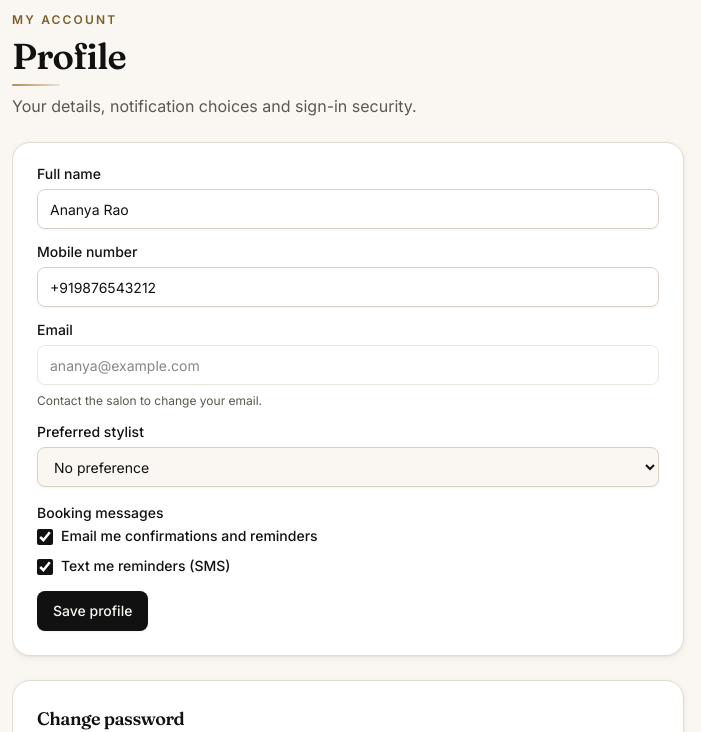
Test: profile (FR-005, API-010, API-008, API-005) › a phone that belongs to someone else is flagged on the field
The width and height of the screenshot is (701, 732).
What coordinates should you click on to do the following:
click the button "Save profile"
I would click on:
 (93, 611)
Its box is [37,591,148,631].
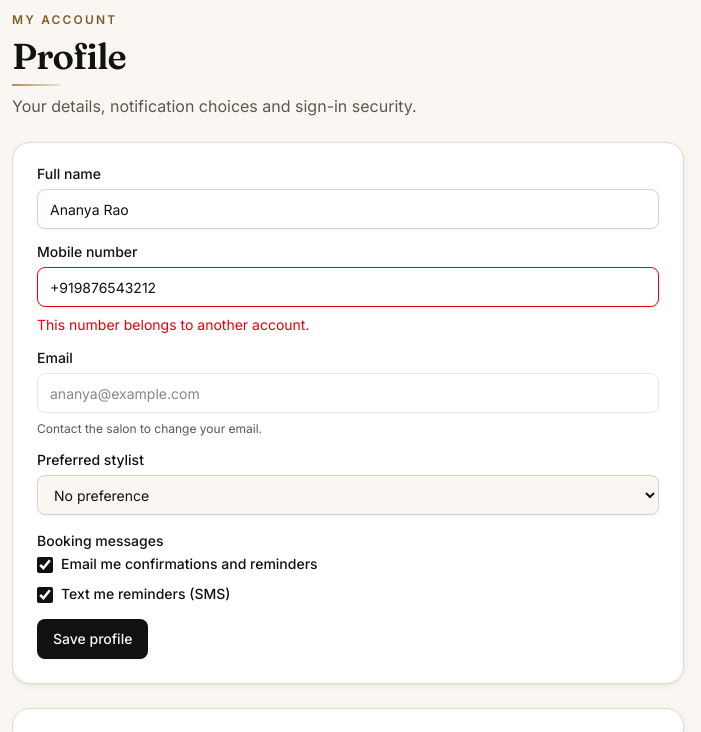
Result: the text "This number belongs to another account." is shown at [37,316,310,333]
